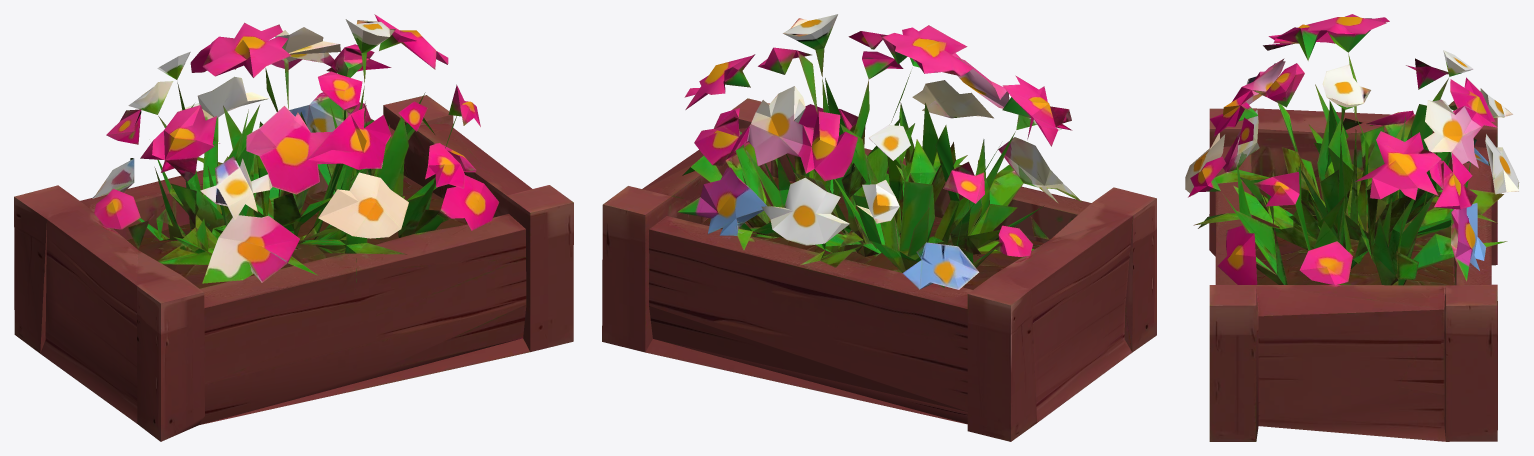
File: planter-box.glb
3 views of the same model, side by side, from view 1: azimuth 30°, elevation 25°; view 2: azimuth 150°, elevation 25°; view 3: azimuth 270°, elevation 25° (orthographic). The views are drawn at different scales.
Size of the model in its own units: 1.87 by 1.36 by 1.34.
1 material, 1 textured.
